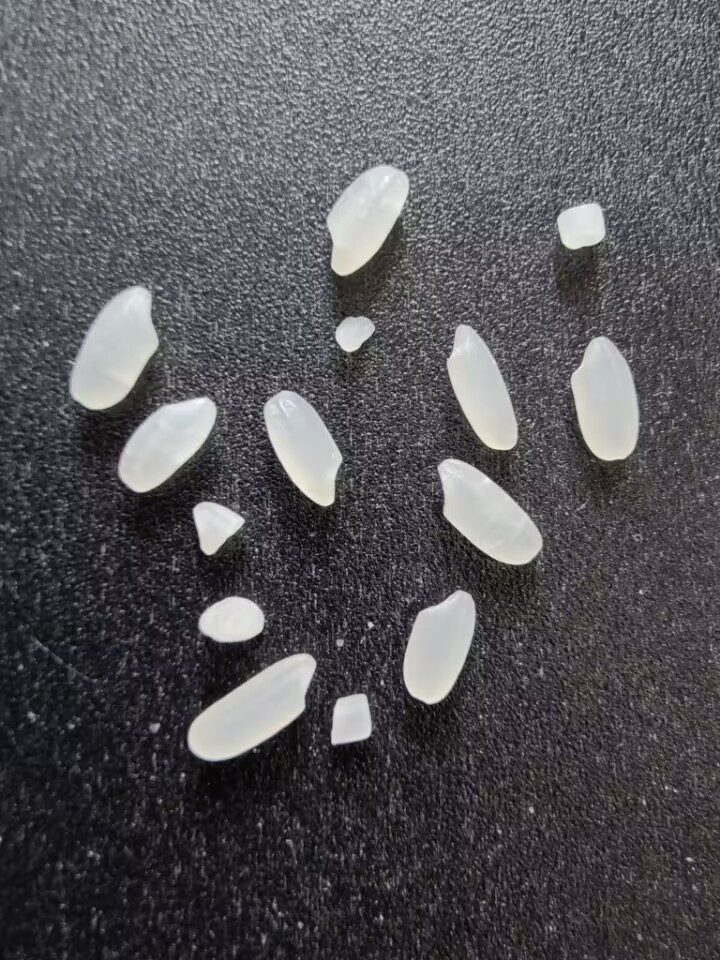broken: (198, 595, 265, 643), (192, 501, 245, 556), (557, 202, 605, 249), (330, 692, 372, 745), (335, 315, 375, 352)
rice: (187, 652, 316, 761), (69, 285, 159, 411), (437, 458, 542, 565), (398, 586, 479, 709), (118, 396, 217, 494), (263, 390, 343, 507), (446, 323, 518, 451), (326, 165, 409, 276), (570, 336, 639, 460)
